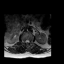CCS_normal: (26, 37, 28, 45)
LFS_normal: (30, 38, 31, 44)
LLS_normal: (28, 38, 30, 44)
RFS_normal: (23, 38, 24, 44)
RLS_normal: (24, 38, 26, 44)
